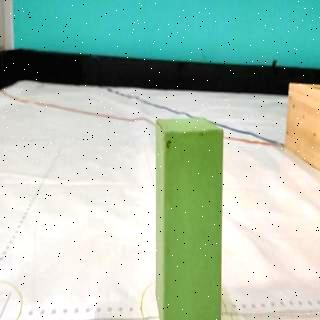greenbox: (151, 114, 225, 320)
